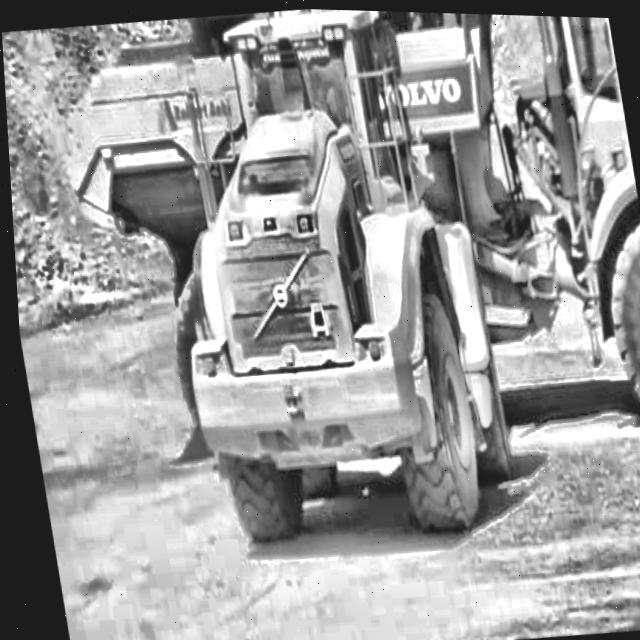buldozerpayloadergrader: (129, 3, 536, 591)
dump_truck: (38, 1, 640, 488)
